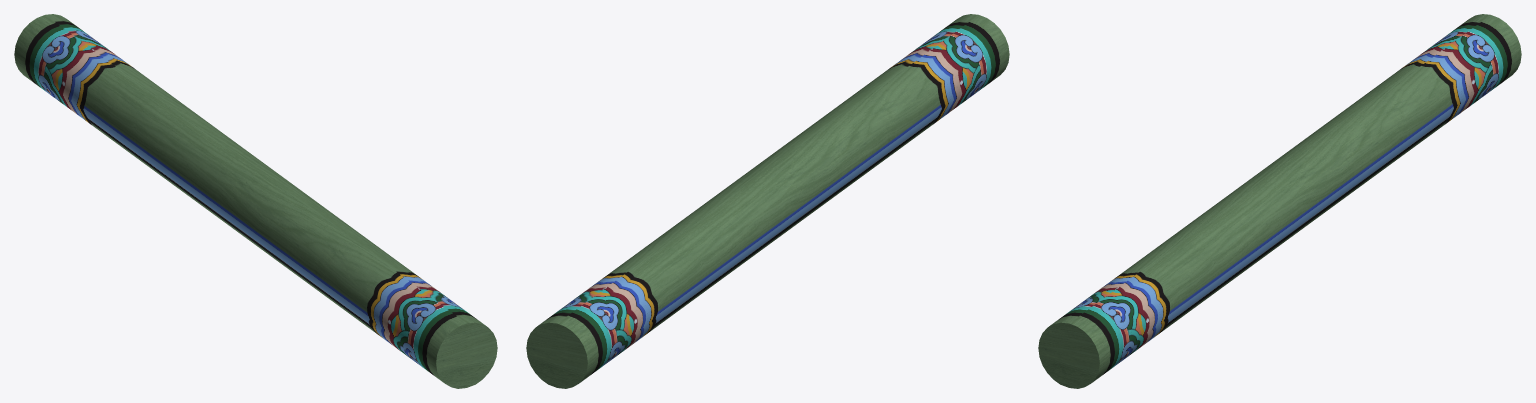
File: SM_SJM_CrossBeam03A_01.fbx
The picture shows the model from 3 angles, left to right: view 1: azimuth 30°, elevation 25°; view 2: azimuth 150°, elevation 25°; view 3: azimuth 330°, elevation 25°; orthographic projection.
Parts seen in each view (by area): view 1: SM_SJM_CrossBeam03A_01; view 2: SM_SJM_CrossBeam03A_01; view 3: SM_SJM_CrossBeam03A_01.
Boxes of the visible parts, bbox=[...] form: SM_SJM_CrossBeam03A_01: bbox=[14, 14, 497, 388]; SM_SJM_CrossBeam03A_01: bbox=[526, 14, 1009, 388]; SM_SJM_CrossBeam03A_01: bbox=[1038, 14, 1521, 388].
Bounding box in the file's own units: 31 × 368 × 31.
1 material, 1 textured.
